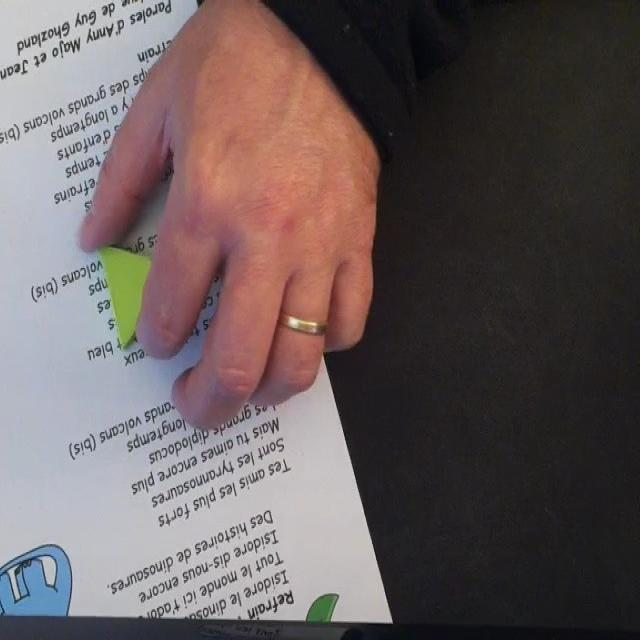triangle: (94, 240, 169, 348)
